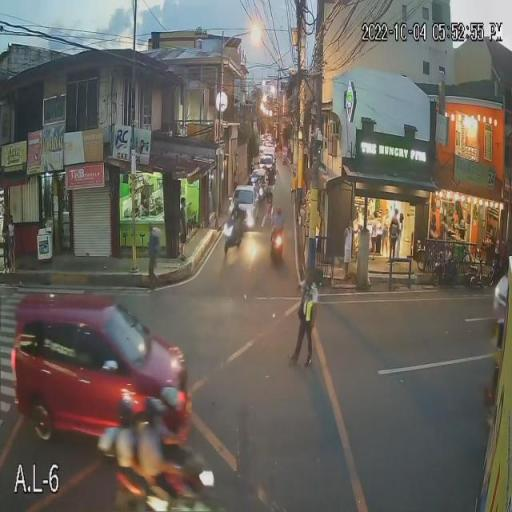helmet: (113, 394, 136, 430), (146, 398, 170, 429)
motorcycle: (110, 442, 219, 511), (220, 218, 242, 258), (269, 226, 286, 266)
rider: (141, 394, 184, 506), (109, 388, 145, 502), (223, 202, 243, 238), (268, 206, 286, 242)
